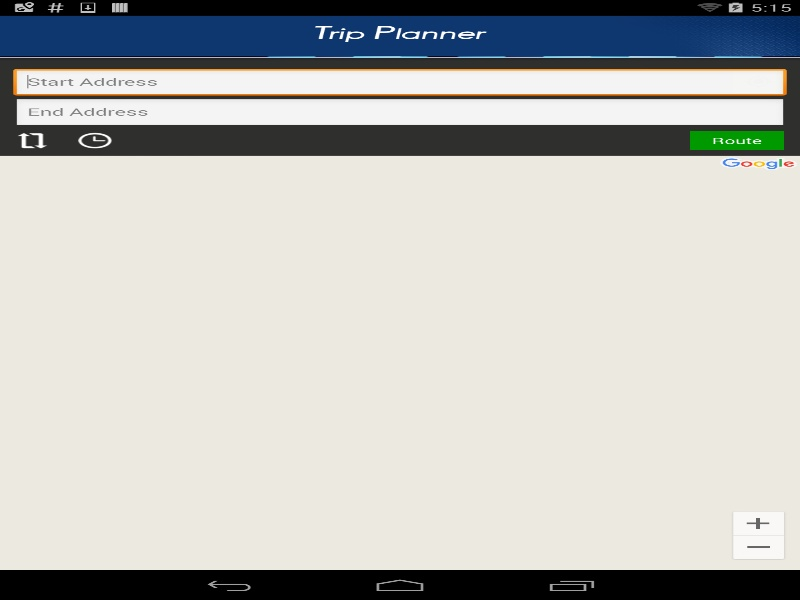Button: (690, 130, 784, 150), (64, 128, 127, 155), (13, 128, 64, 155)
Input: (13, 68, 786, 98), (13, 98, 786, 128)
